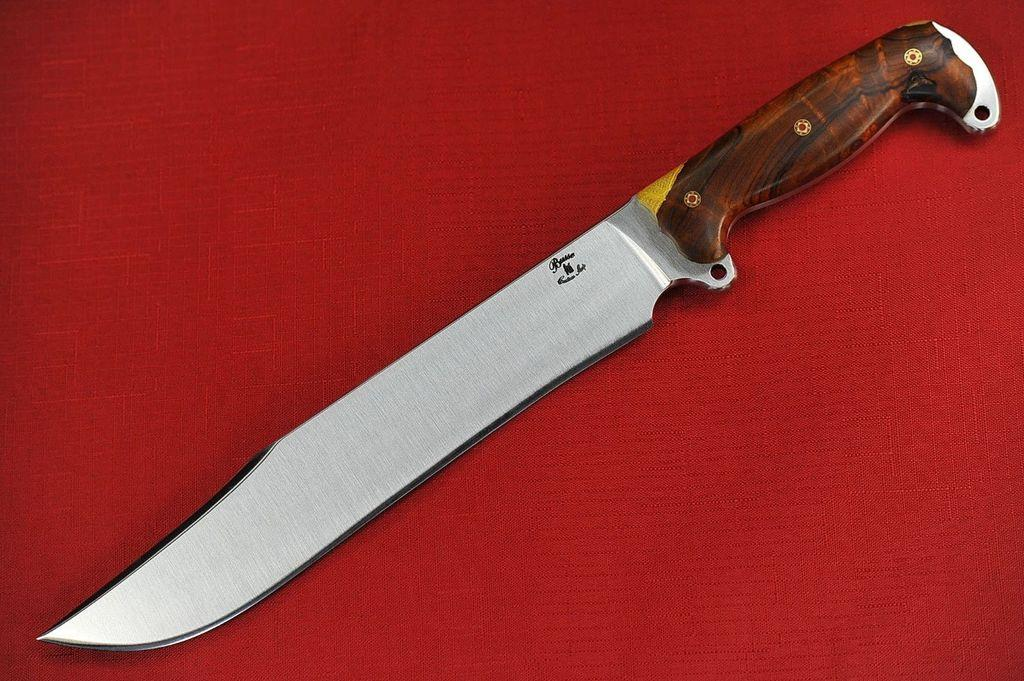Knife: (35, 17, 1002, 655)
